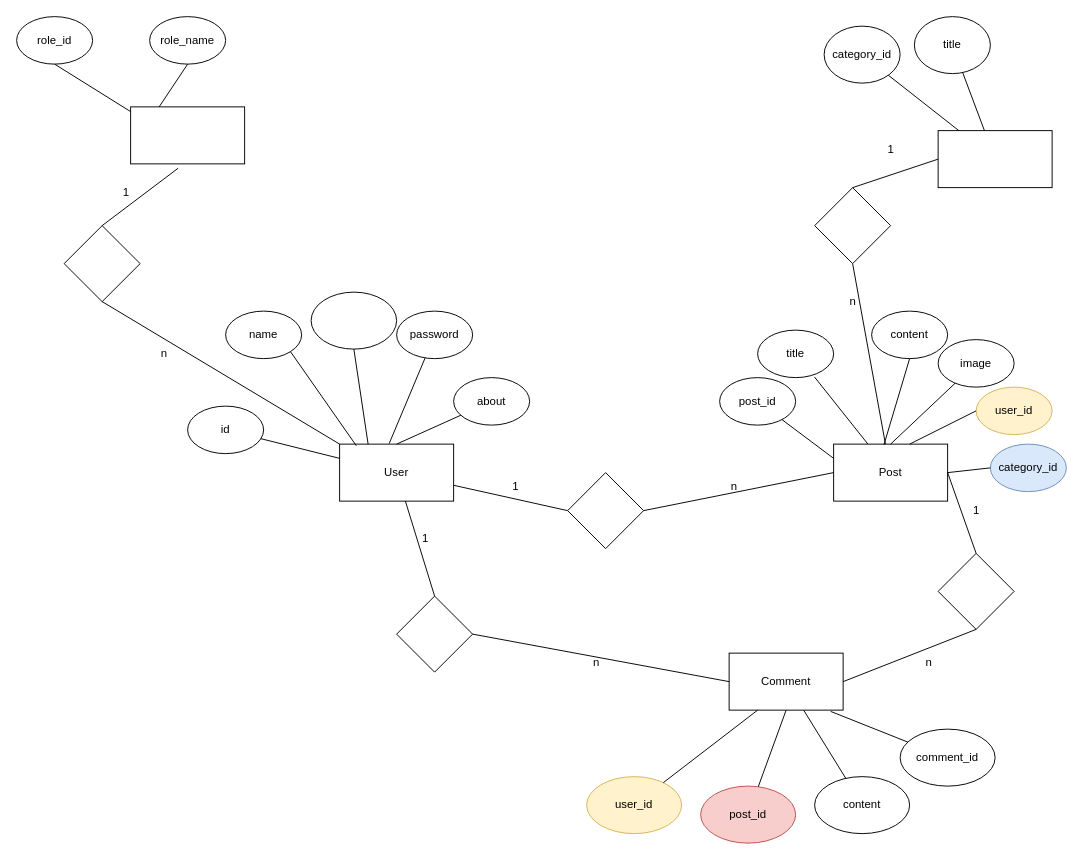
Image size: 1083x860. Some labels were removed from this diagram. The centre of each missing label's shape, as x and y in pixels:
can: pixel 434 633
can create: pixel 605 510
can have: pixel 101 263
Category: pixel 994 159
contains: pixel 852 225
email(username): pixel 353 320
has: pixel 975 590
Role: pixel 187 135
